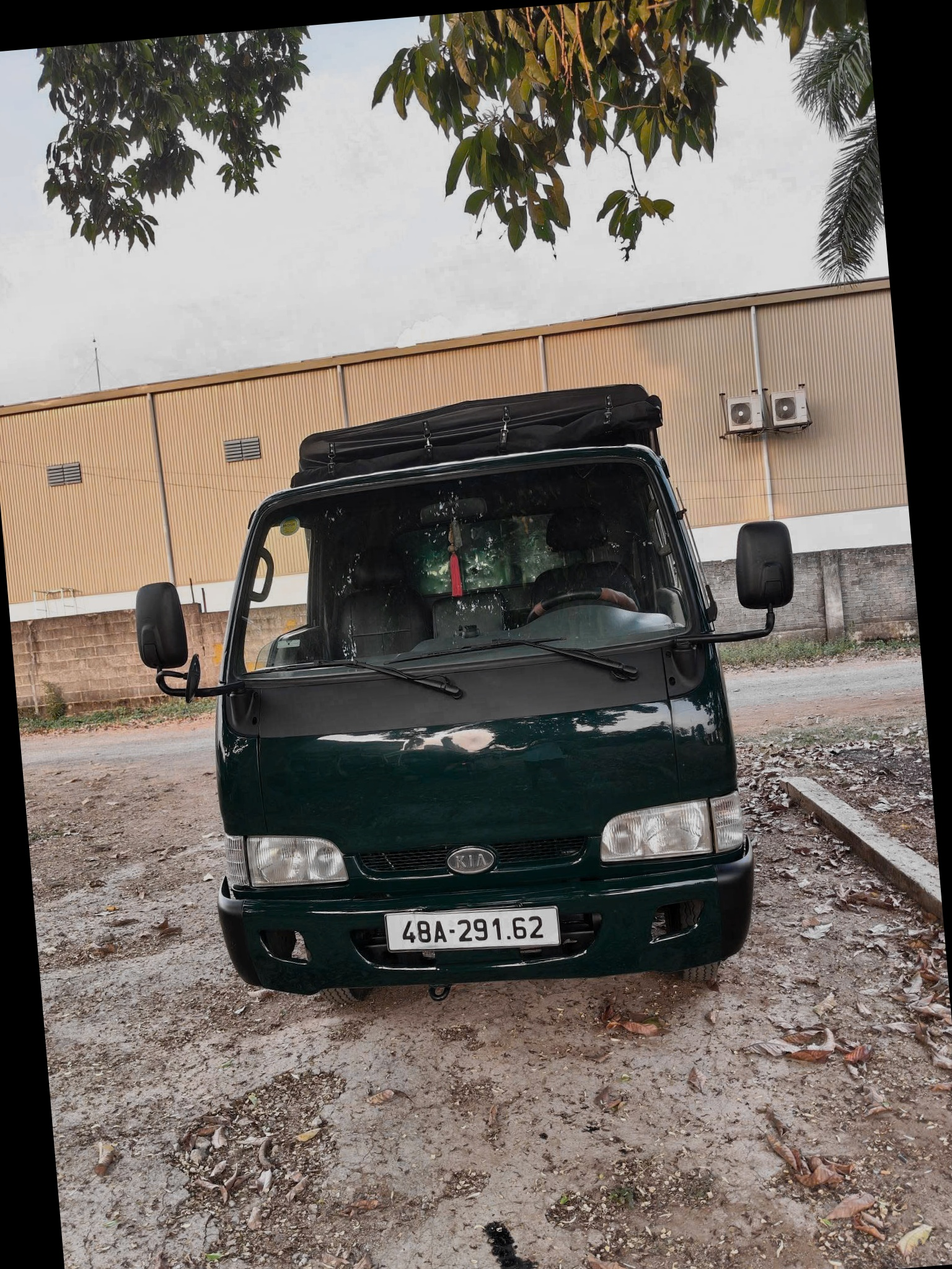Bien-so: (384, 900, 557, 961)
